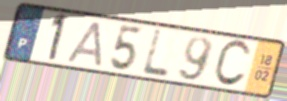1: (46, 12, 70, 63)
5: (108, 23, 147, 72)
9: (175, 35, 217, 82)
A: (64, 20, 103, 69)
C: (211, 38, 254, 89)
L: (140, 28, 171, 79)
